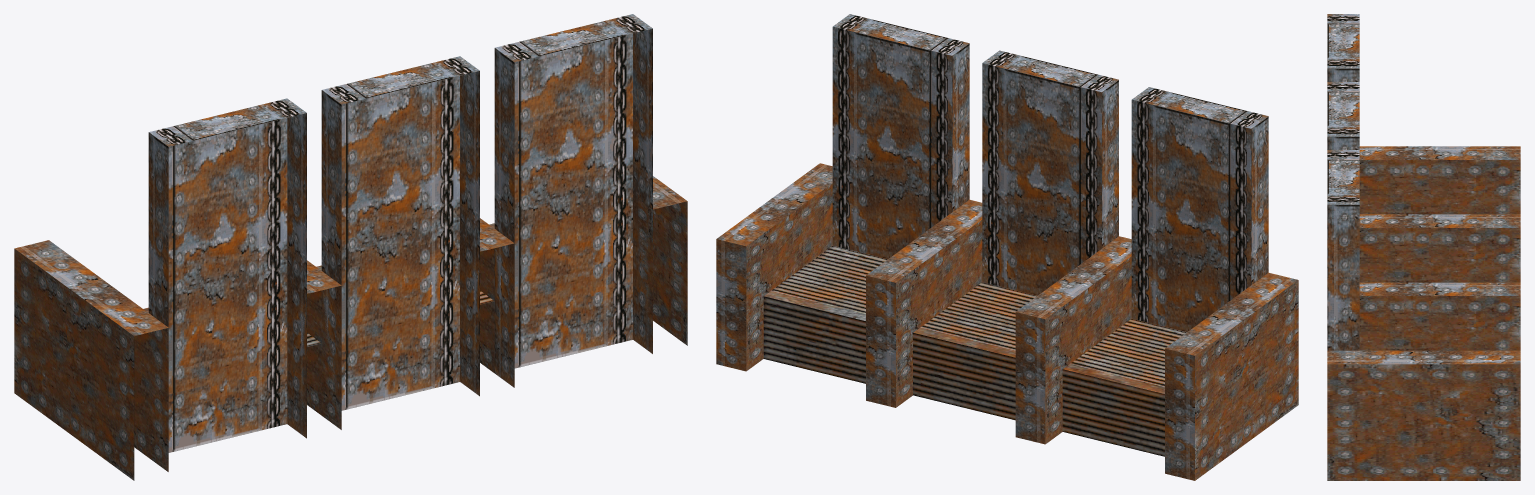
File: Small Chairs.fbx
3 views of the same model, side by side, from view 1: azimuth 30°, elevation 25°; view 2: azimuth 150°, elevation 25°; view 3: azimuth 270°, elevation 25° (orthographic). The views are drawn at different scales.
Parts seen in each view (by area): view 1: object_0; view 2: object_0; view 3: object_0.
Boxes of the visible parts, x1=… form: object_0: x1=14, y1=14, x2=687, y2=480; object_0: x1=716, y1=14, x2=1298, y2=480; object_0: x1=1327, y1=14, x2=1520, y2=480.
Size of the model in its own units: 400 by 225 by 150.
